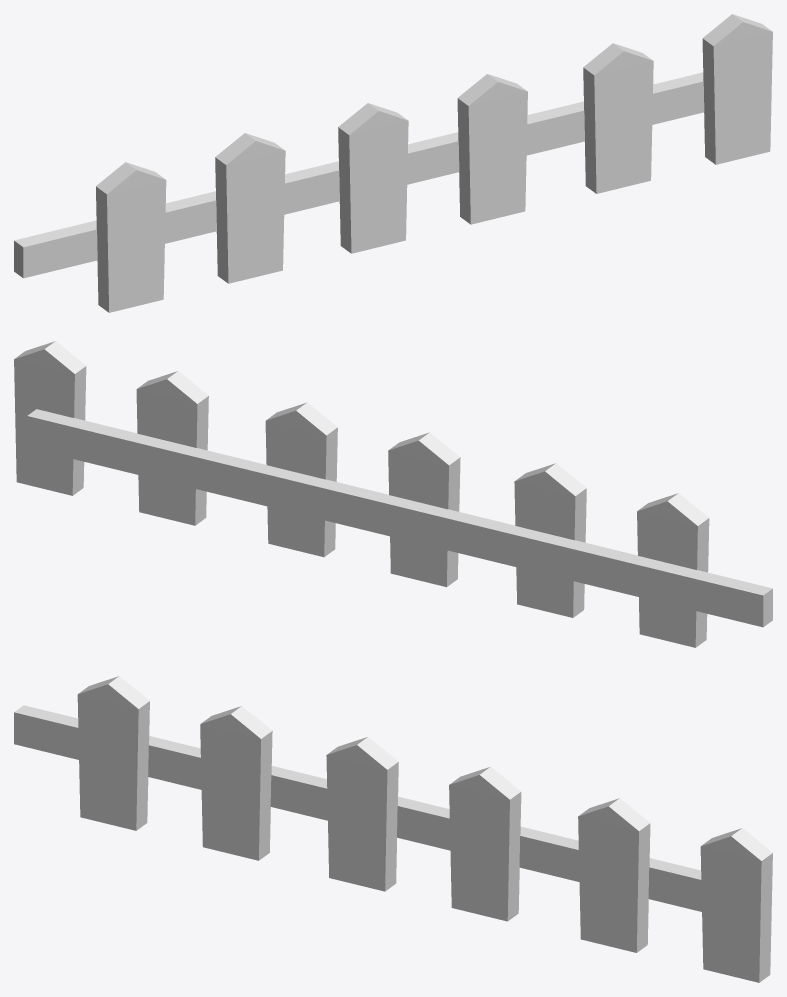
The model's file is fence01_s01.FBX.
3 renders of one model, top to bottom at view 1: azimuth 30°, elevation 25°; view 2: azimuth 150°, elevation 25°; view 3: azimuth 330°, elevation 25°, orthographic. The views are drawn at different scales.
Visible parts, largest first — view 1: fence01_s01; view 2: fence01_s01; view 3: fence01_s01.
Boxes of the visible parts, x1,y1,x2,y2 form: fence01_s01: (14,14,772,312); fence01_s01: (14,341,772,647); fence01_s01: (14,676,772,982).
Bounding box in the file's own units: 586 × 27.75 × 103.
Materials: 1 (1 with a texture image).
